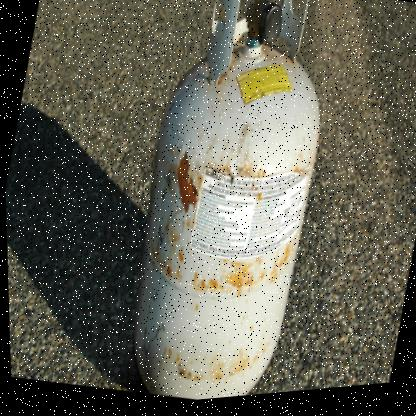gas-tank: (101, 0, 365, 408)
